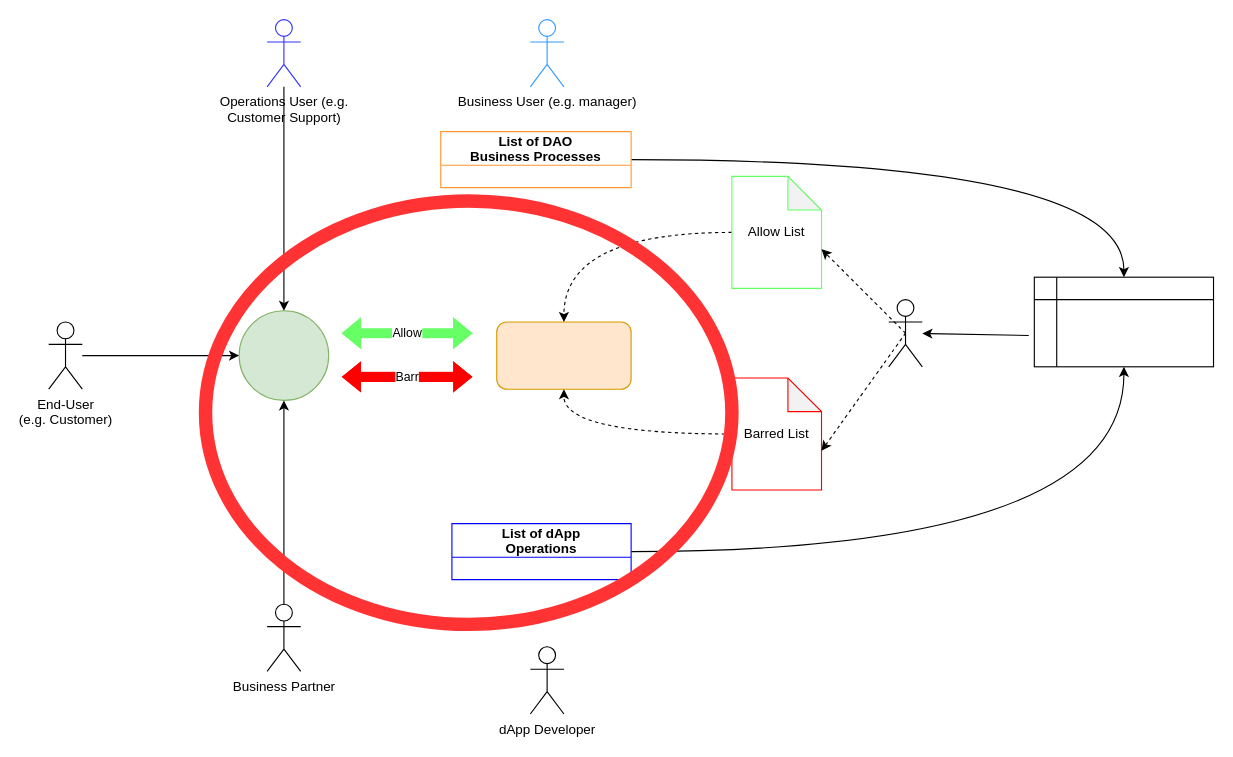
Some shapes in this 1233 by 757 pixel diagram are drawn without their labels. Each missing label, with the box of its shape:
Business Role Profiles: (1033, 276, 1214, 367)
dApp Contract: (238, 310, 329, 400)
Open Roles Contract: (496, 321, 631, 389)
Role Administrator (e.g. Sys Admin): (888, 298, 922, 367)
